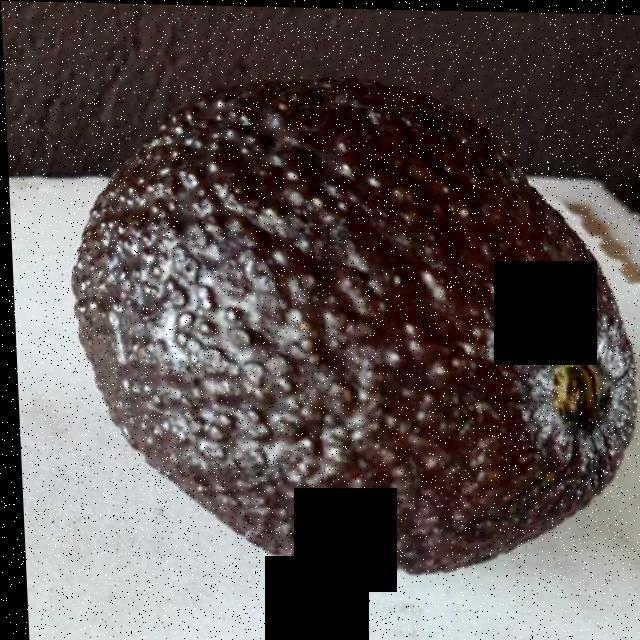avocado: (78, 83, 626, 566)
